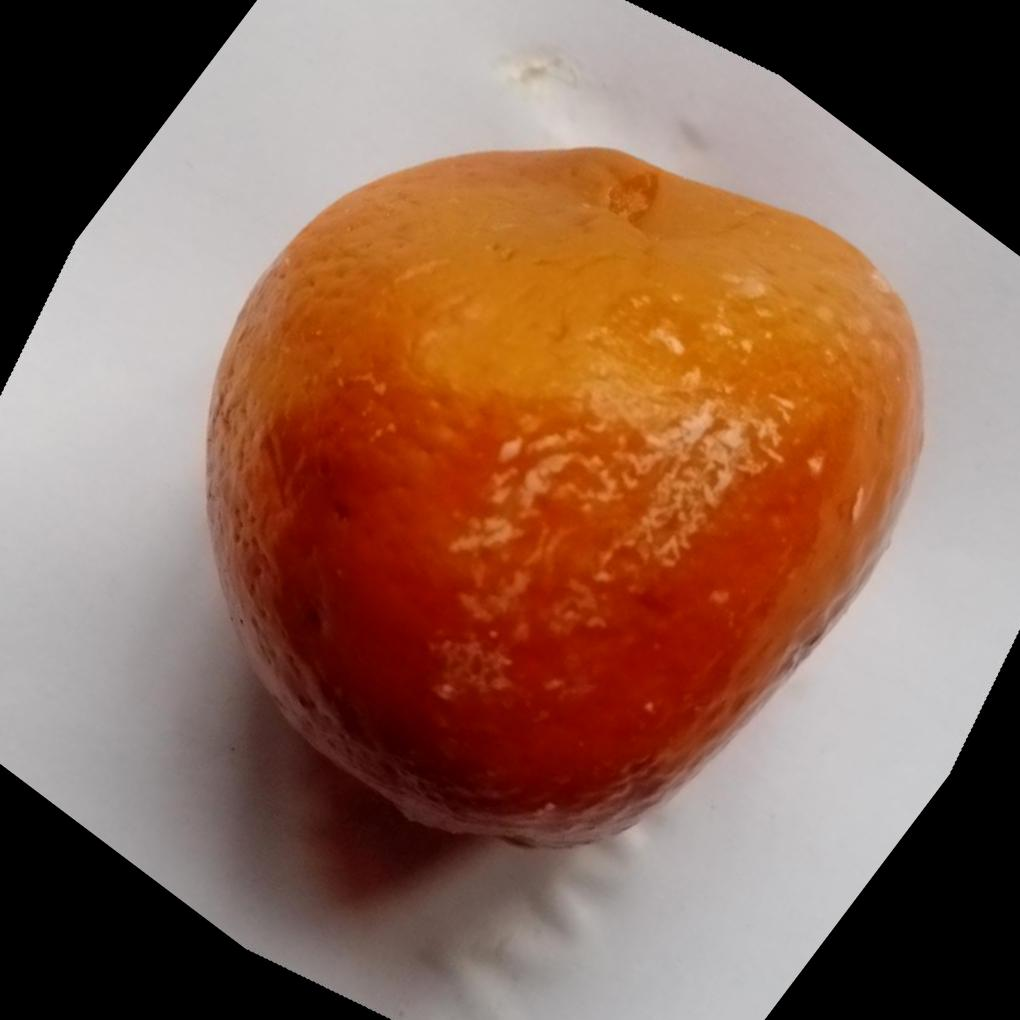FreshOrange: (203, 140, 927, 851)
